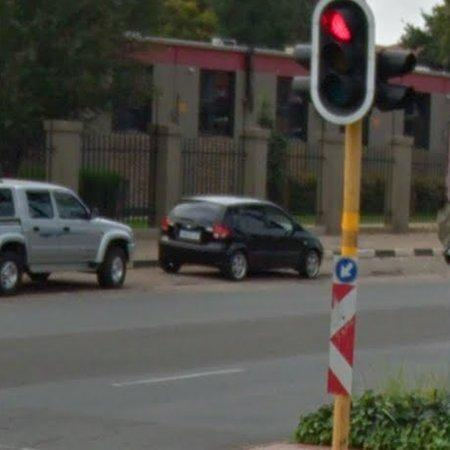traffic lights: (314, 4, 373, 122)
